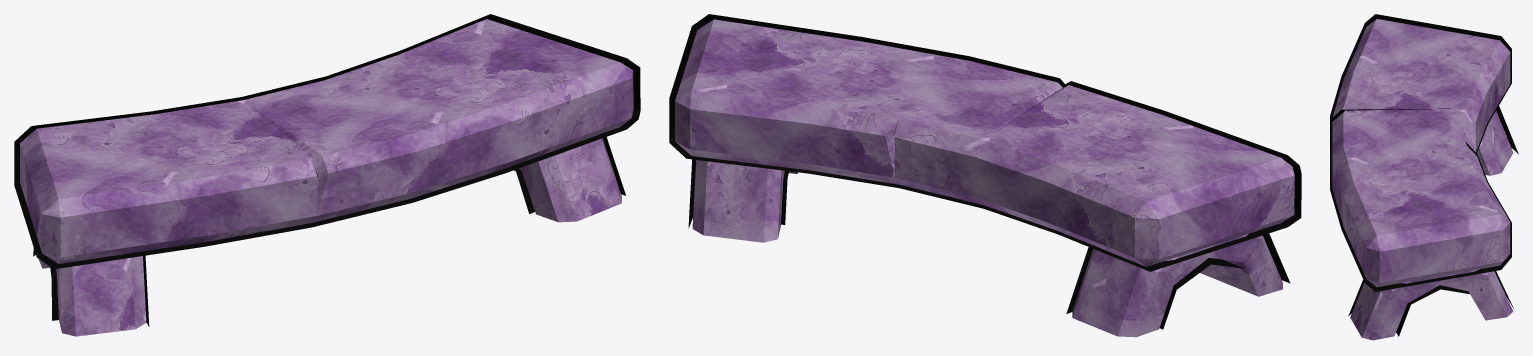
The model's file is s0_Bench_01__1__01.glb.
3 renders of one model, left to right at view 1: azimuth 30°, elevation 25°; view 2: azimuth 150°, elevation 25°; view 3: azimuth 270°, elevation 25°, orthographic. The views are drawn at different scales.
Visible parts, largest first — view 1: node_Bench_01 (1); view 2: node_Bench_01 (1); view 3: node_Bench_01 (1).
Part boxes in pixels (<box>): node_Bench_01 (1): <box>14,14,640,336</box>; node_Bench_01 (1): <box>669,14,1301,337</box>; node_Bench_01 (1): <box>1330,14,1518,340</box>.
Size of what is drawn, in the model's own units: 3.7 by 0.8056 by 1.26.
Materials: 2 (1 with a texture image).
